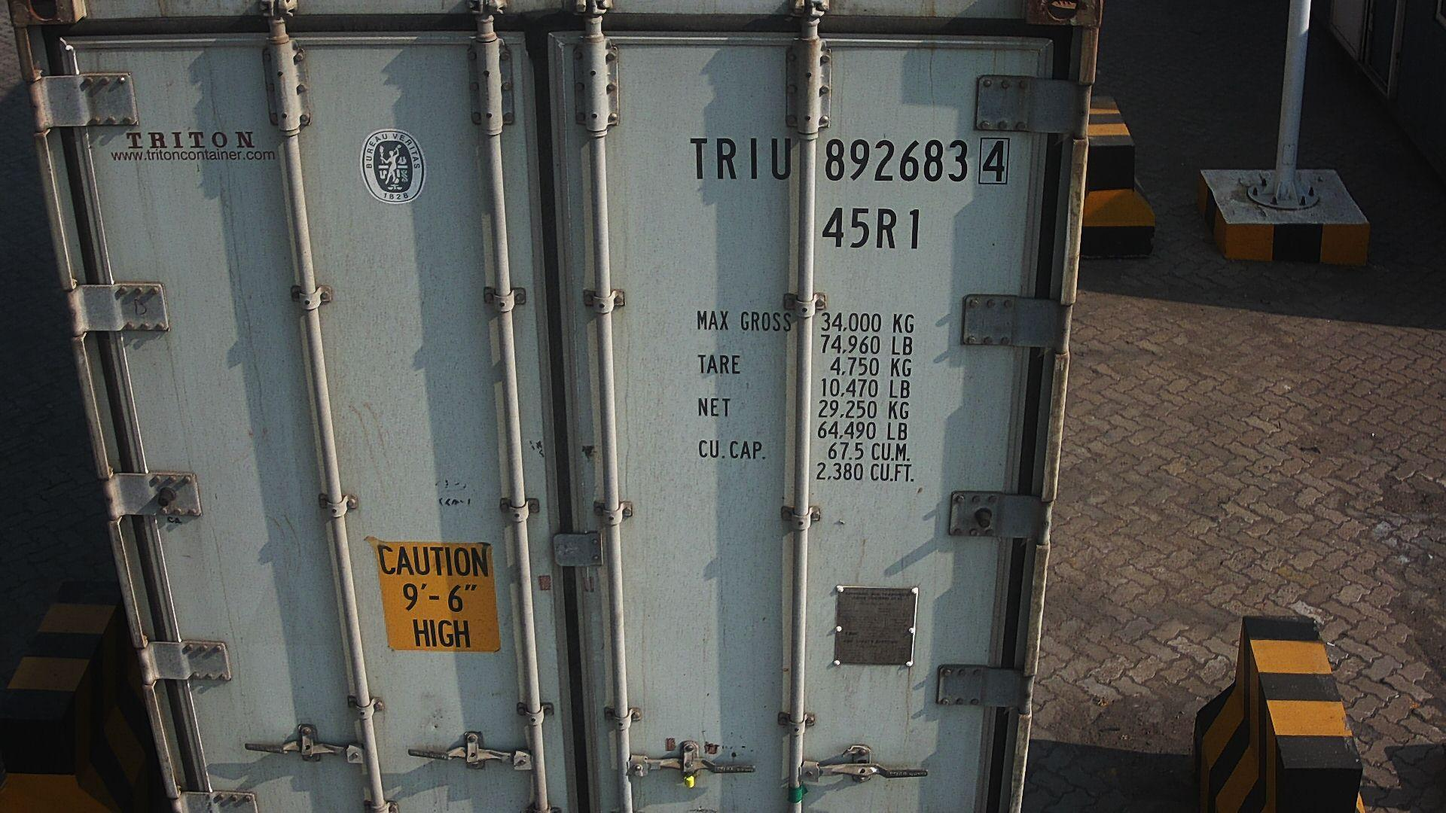container-numbers: (680, 133, 1016, 190), (818, 202, 928, 254)
